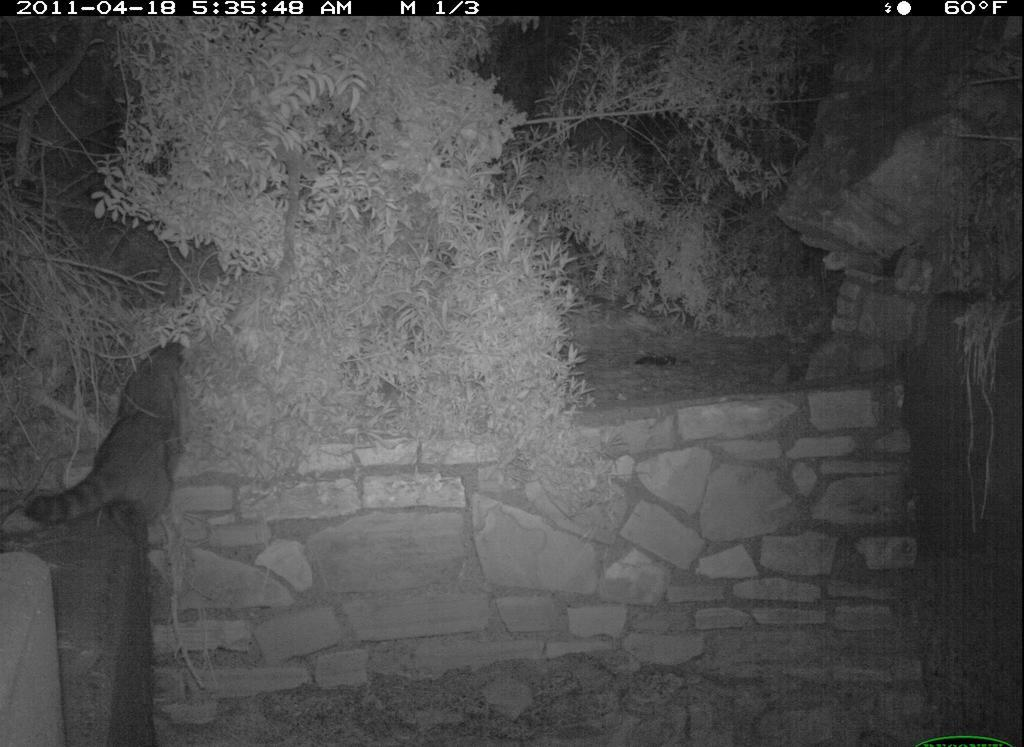raccoon: (17, 338, 196, 542)
